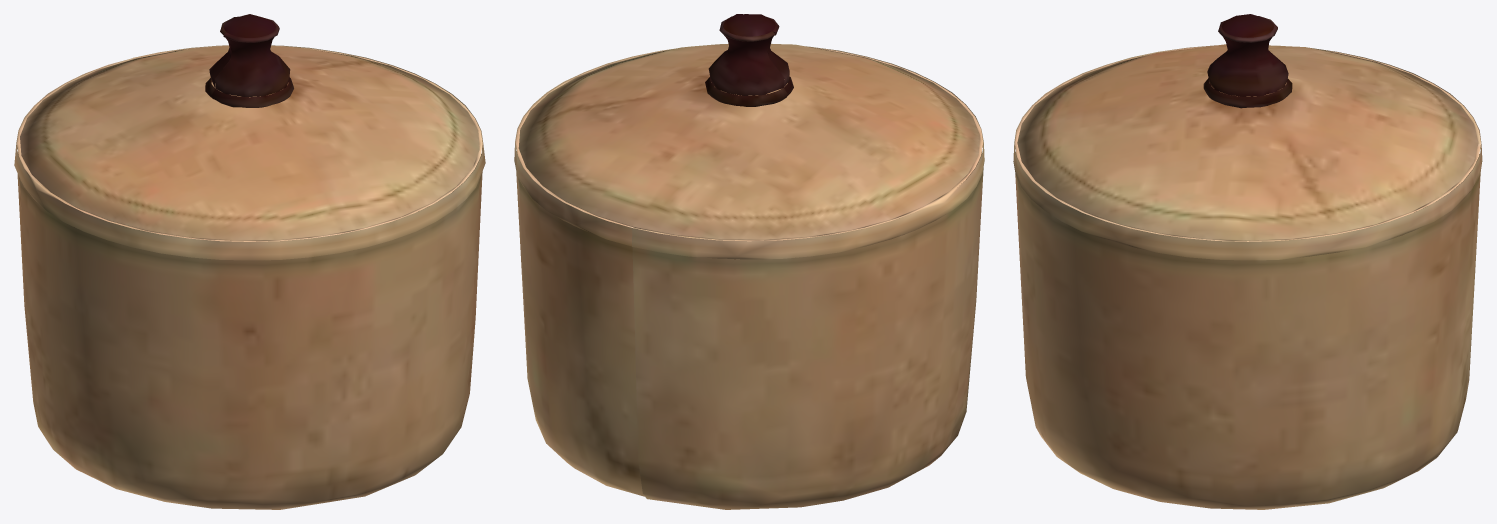
Rendered from ph_brass_pot_01.glb.
The picture shows the model from 3 angles, left to right: view 1: azimuth 30°, elevation 25°; view 2: azimuth 150°, elevation 25°; view 3: azimuth 270°, elevation 25°; orthographic projection.
Visible parts, largest first — view 1: brass_pot_01; view 2: brass_pot_01; view 3: brass_pot_01.
Boxes of the visible parts, x1,y1,x2,y2 form: brass_pot_01: [14, 14, 485, 509]; brass_pot_01: [514, 14, 984, 509]; brass_pot_01: [1013, 14, 1482, 509].
Bounding box in the file's own units: 0.3005 × 0.291 × 0.3001.
Materials: 1 (1 with a texture image).
